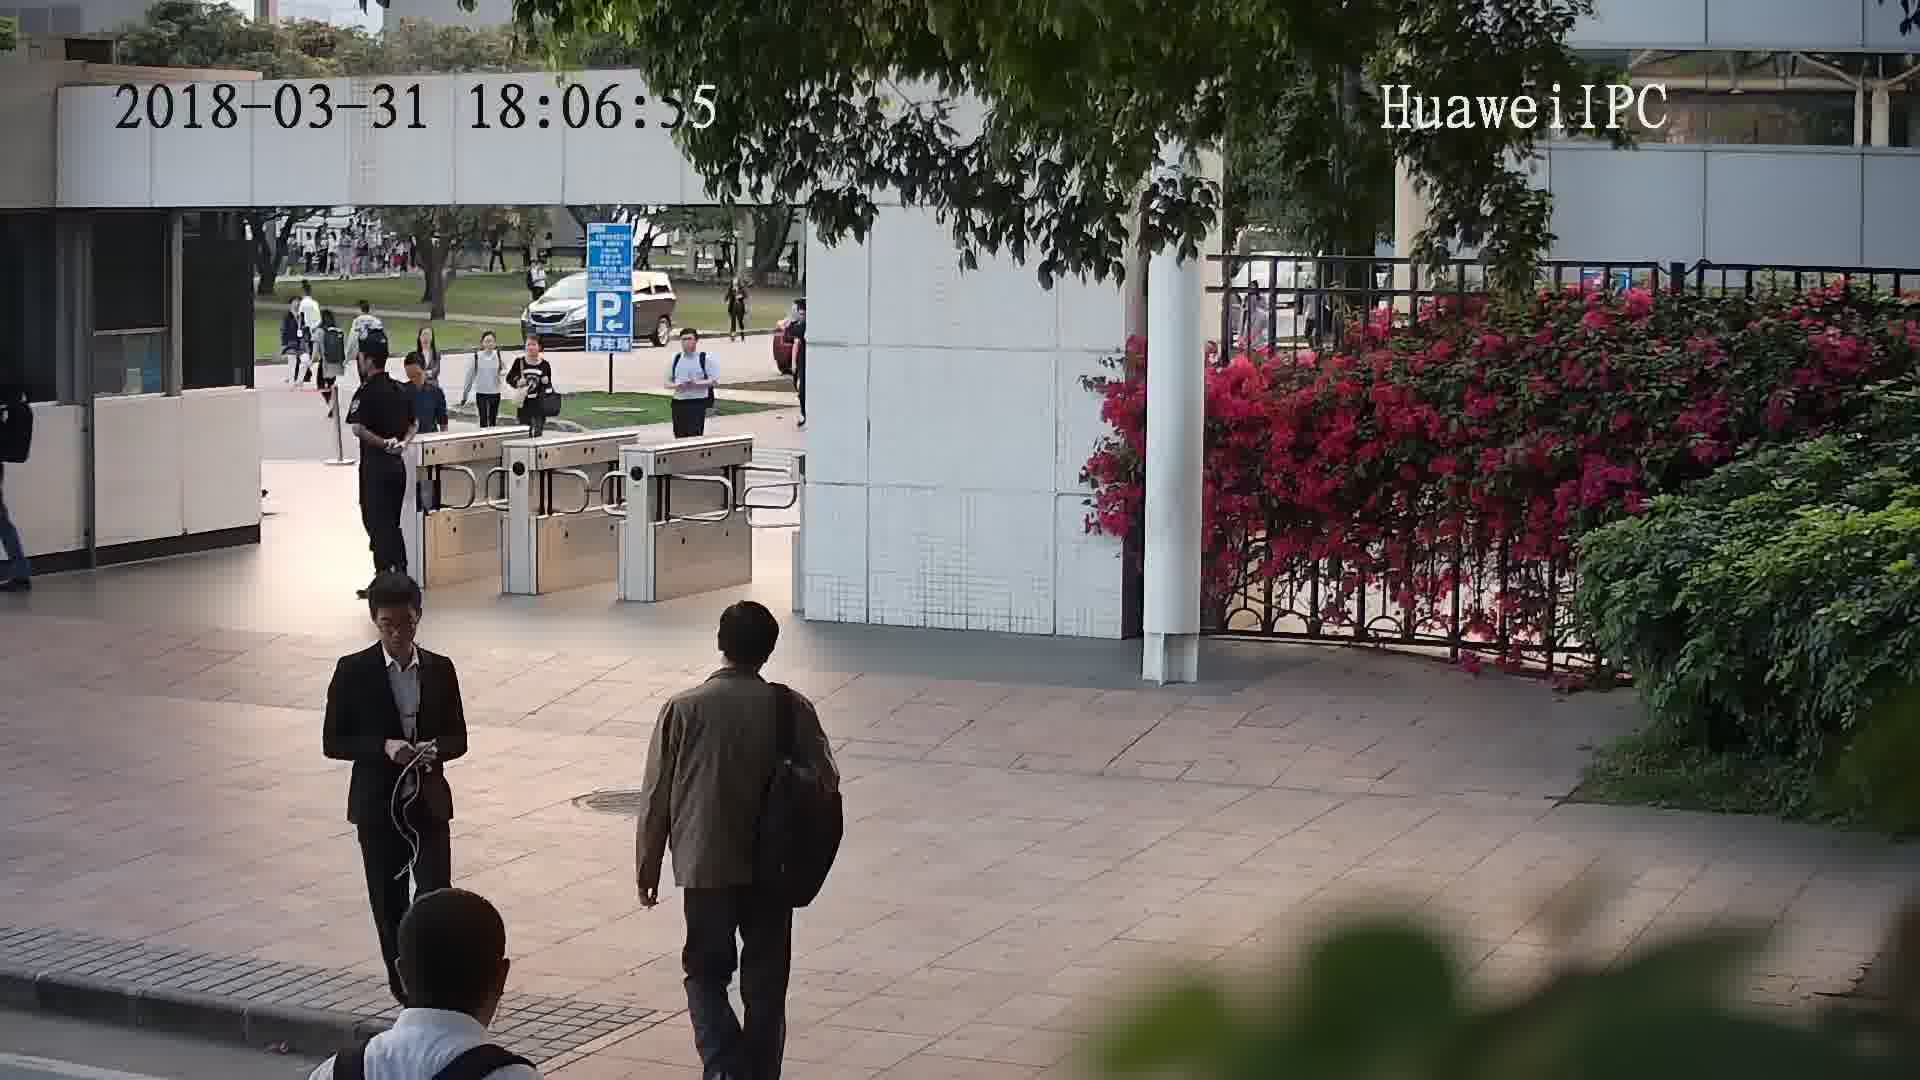face: (373, 604, 423, 655)
person: (341, 885, 541, 1077), (662, 595, 813, 723), (329, 568, 461, 692), (349, 341, 396, 395), (398, 350, 443, 402), (671, 324, 715, 367), (514, 328, 556, 370), (409, 325, 440, 360), (470, 328, 503, 361), (287, 276, 319, 310), (312, 306, 344, 339), (348, 296, 380, 329), (279, 296, 308, 328)
